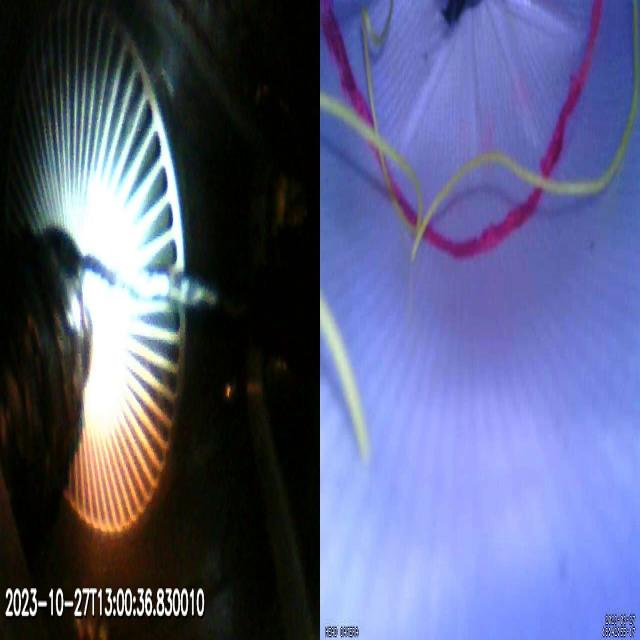red-circle: (321, 0, 604, 262)
